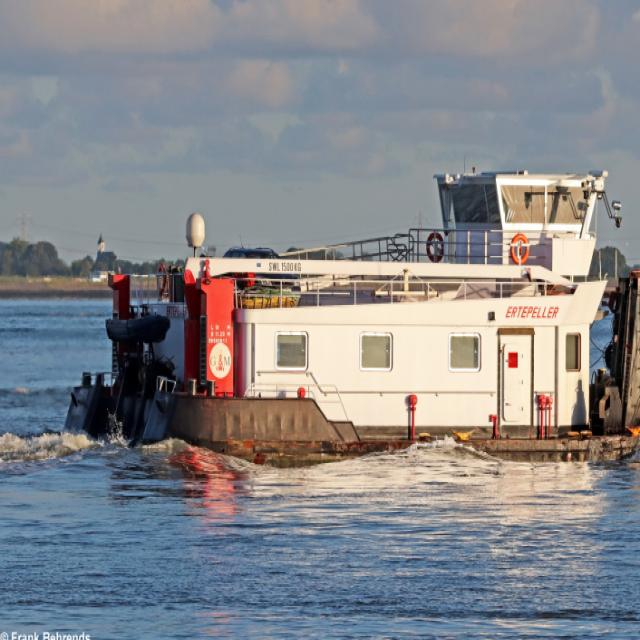tugboat: (64, 158, 640, 487)
